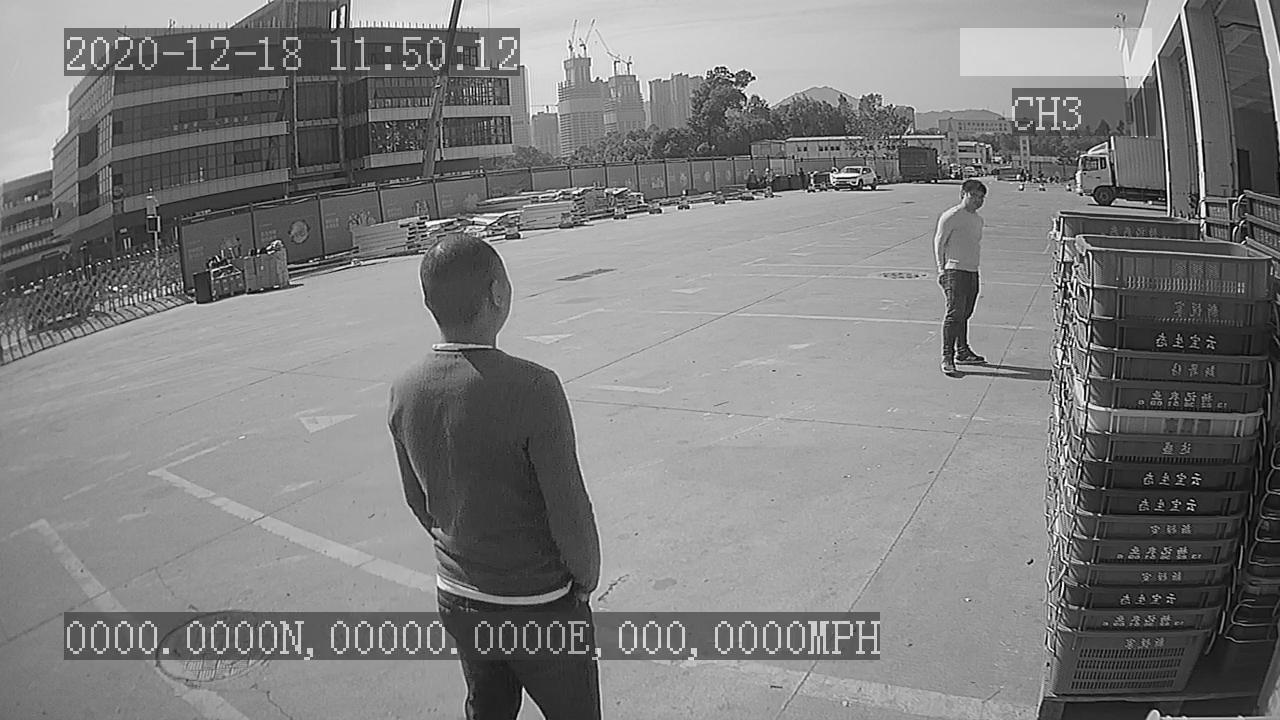person: (929, 179, 992, 385)
